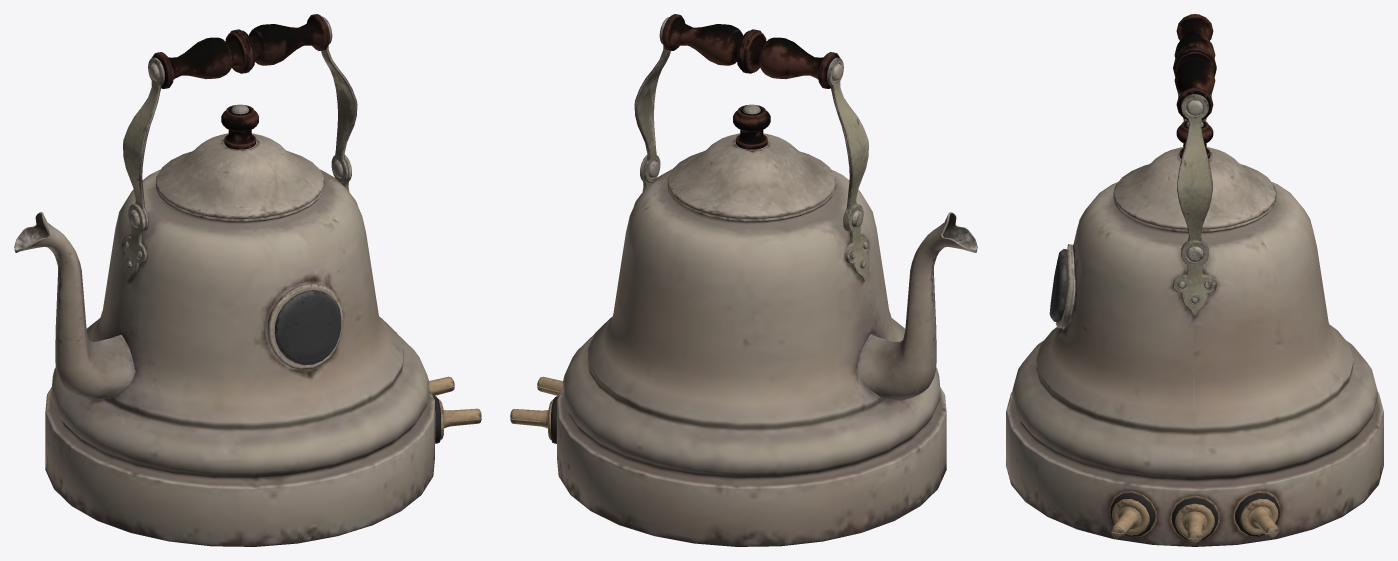
Rendered from vintage_electric_kettle.glb.
3 views of the same model, side by side, from view 1: azimuth 30°, elevation 25°; view 2: azimuth 150°, elevation 25°; view 3: azimuth 270°, elevation 25° (orthographic). The views are drawn at different scales.
Parts seen in each view (by area): view 1: vintage_electric_kettle; view 2: vintage_electric_kettle; view 3: vintage_electric_kettle.
Part boxes in pixels (bbox=[...]): vintage_electric_kettle: bbox=[14, 14, 481, 546]; vintage_electric_kettle: bbox=[510, 14, 977, 546]; vintage_electric_kettle: bbox=[1006, 14, 1383, 546].
Bounding box in the file's own units: 0.3209 × 0.3047 × 0.2486.
Materials: 2 (2 with a texture image).
